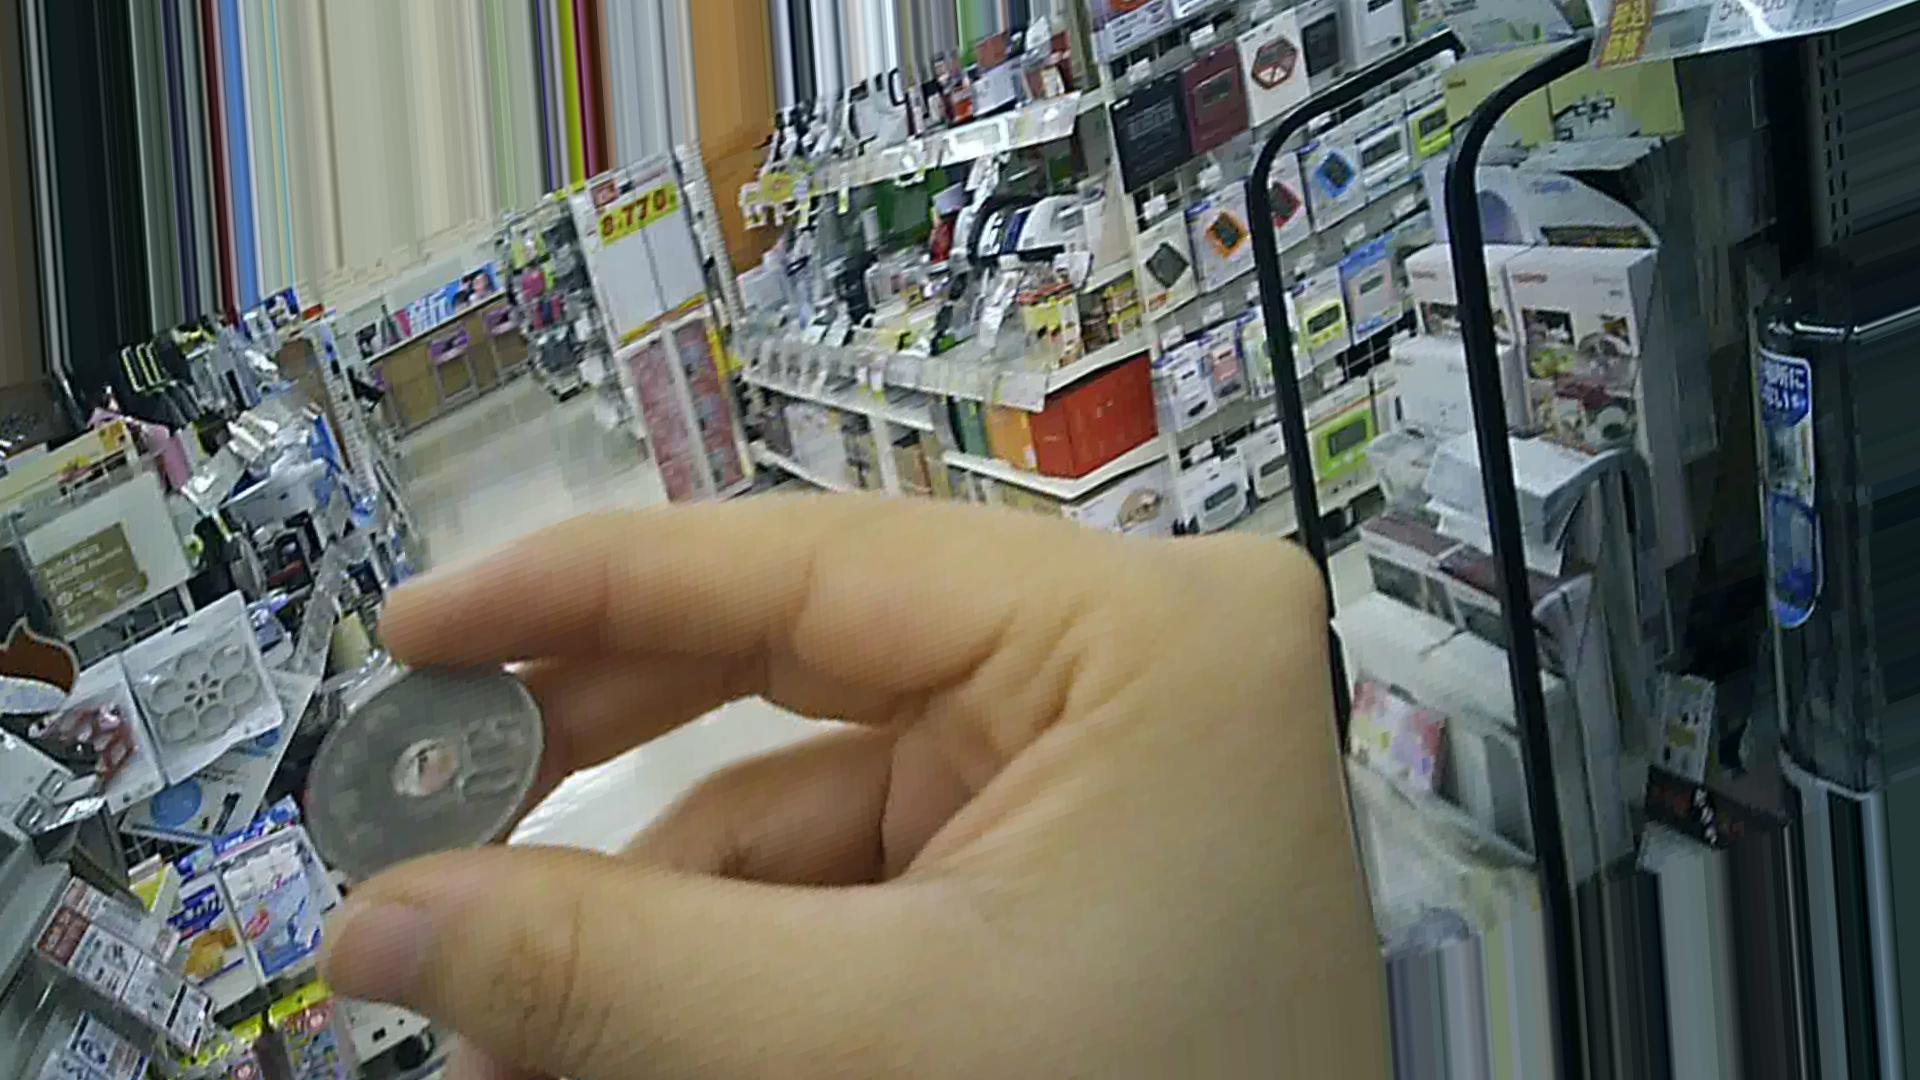50 Yen: (295, 646, 549, 880)
